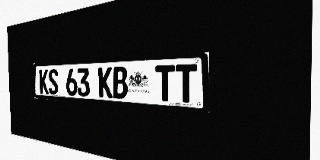3: (77, 68, 90, 97)
6: (66, 68, 77, 96)
B: (112, 66, 128, 99)
K: (98, 67, 112, 98), (39, 69, 49, 94)
S: (48, 69, 58, 95)
T: (175, 64, 197, 103), (155, 65, 175, 102)
